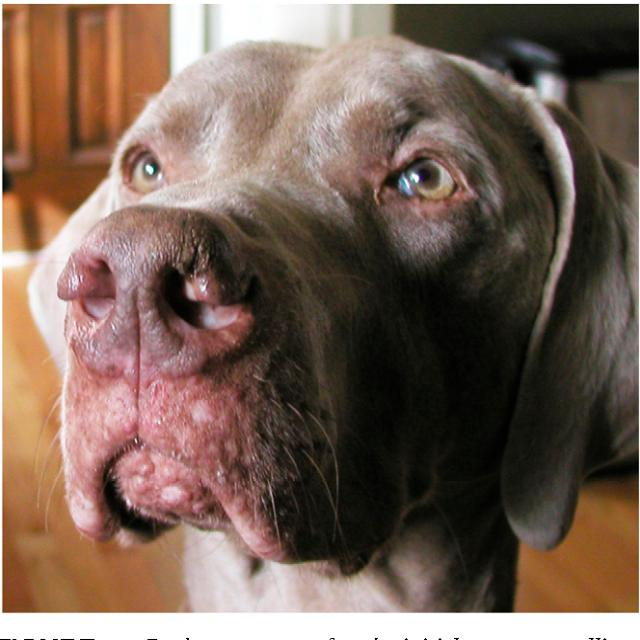fungal infection: (74, 378, 315, 544)
